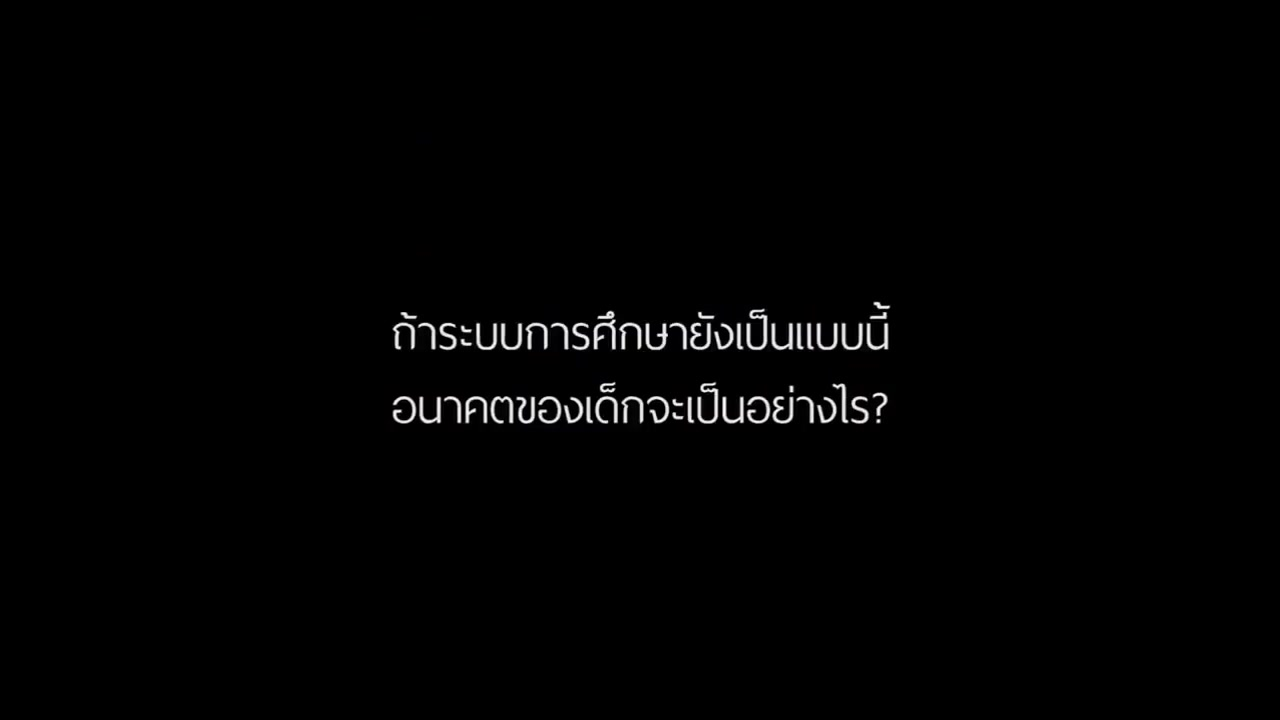text-label: (386, 293, 900, 360), (385, 376, 896, 428)
